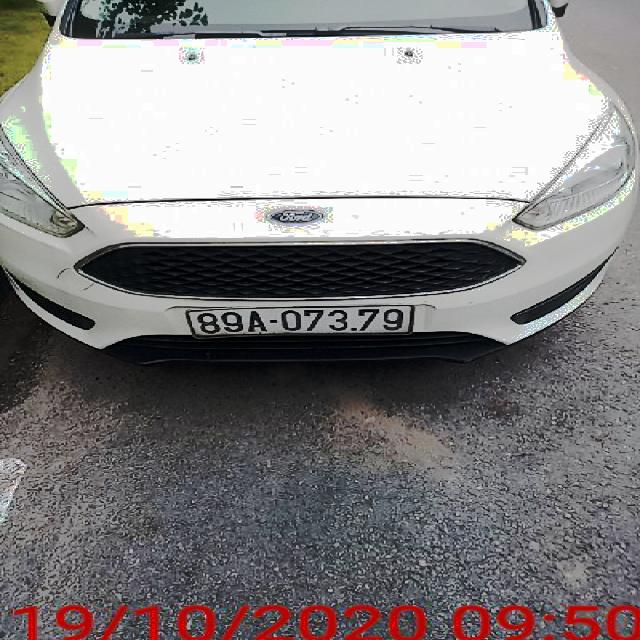license_plate: (191, 307, 412, 339)
